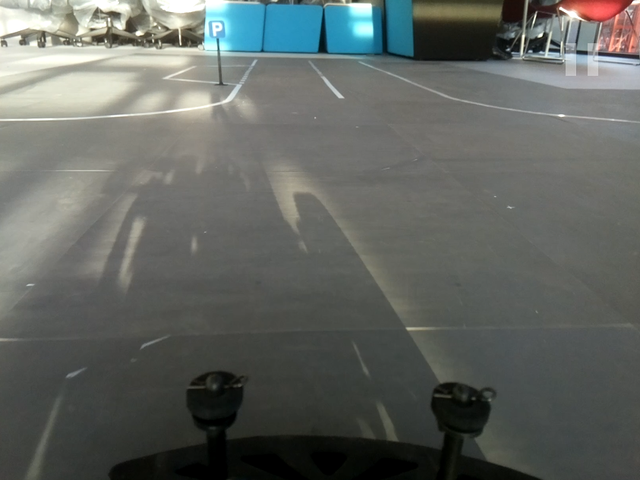parking: (208, 20, 226, 38)
